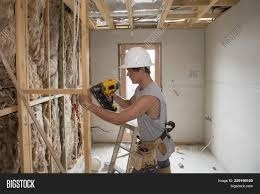helmet: (117, 45, 154, 70)
person with partial safety: (115, 45, 169, 140)
